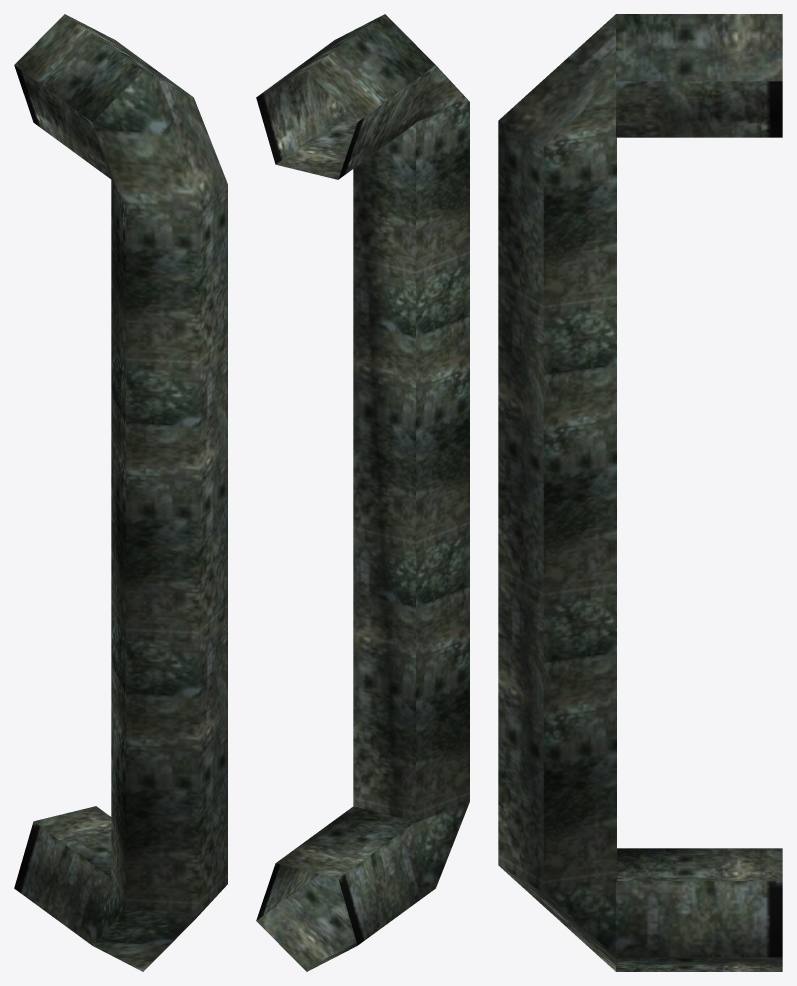
Rendered from SmallPipe.glb.
3 renders of one model, left to right at view 1: azimuth 30°, elevation 25°; view 2: azimuth 150°, elevation 25°; view 3: azimuth 270°, elevation 25°, orthographic. The views are drawn at different scales.
Visible parts, largest first — view 1: Cylinder; view 2: Cylinder; view 3: Cylinder.
Boxes of the visible parts, x1,y1,x2,y2 form: Cylinder: (14, 14, 227, 971); Cylinder: (256, 14, 469, 971); Cylinder: (498, 14, 782, 971).
Bounding box in the file's own units: 0.3931 × 3.33 × 0.8958.
1 material, 1 textured.
